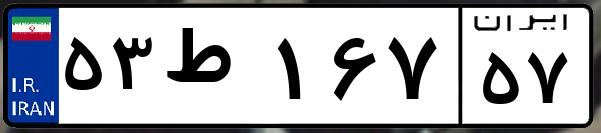1: (270, 28, 330, 110)
3: (110, 28, 158, 98)
5: (57, 26, 110, 100), (475, 38, 525, 113)
6: (330, 28, 385, 110)
7: (385, 28, 445, 110), (525, 38, 570, 115)
ط: (158, 20, 270, 120)
